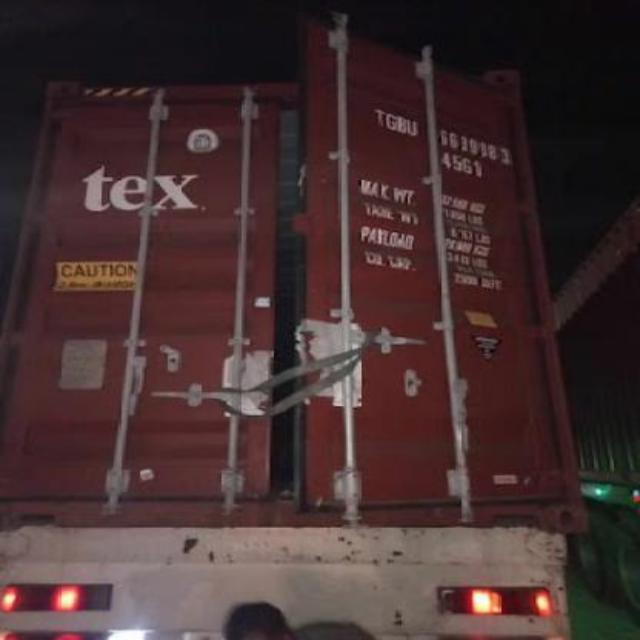0: (478, 136, 488, 158)
3: (458, 129, 468, 155), (501, 144, 514, 164)
6: (436, 122, 448, 148), (450, 128, 458, 150)
8: (488, 138, 496, 162)
9: (468, 129, 478, 159)
B: (394, 110, 408, 136)
G: (386, 106, 396, 134)
T: (372, 104, 386, 130)
U: (406, 114, 422, 136)
